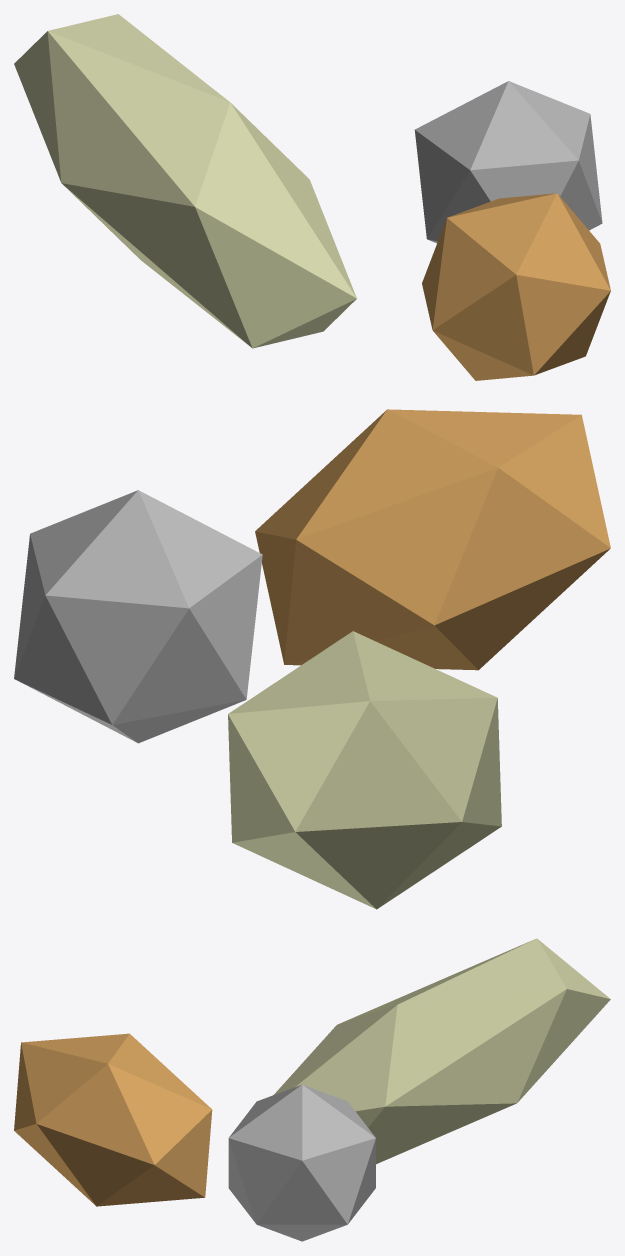
File: food.fbx
The picture shows the model from 3 angles, top to bottom: view 1: azimuth 30°, elevation 25°; view 2: azimuth 150°, elevation 25°; view 3: azimuth 270°, elevation 25°; orthographic projection. The views are drawn at different scales.
Parts seen in each view (by area): view 1: Icosphere.001, Icosphere.002, Icosphere; view 2: Icosphere.002, Icosphere.001, Icosphere; view 3: Icosphere.001, Icosphere.002, Icosphere.
Boxes of the visible parts, x1,y1,x2,y2 form: Icosphere.001: (14, 14, 356, 348); Icosphere.002: (422, 193, 610, 380); Icosphere: (414, 81, 602, 243); Icosphere.002: (255, 409, 610, 670); Icosphere.001: (228, 631, 501, 909); Icosphere: (14, 490, 262, 743); Icosphere.001: (274, 938, 610, 1164); Icosphere.002: (14, 1033, 212, 1206); Icosphere: (228, 1084, 375, 1241).
Size of the model in its own units: 46.78 by 24.79 by 68.87.
